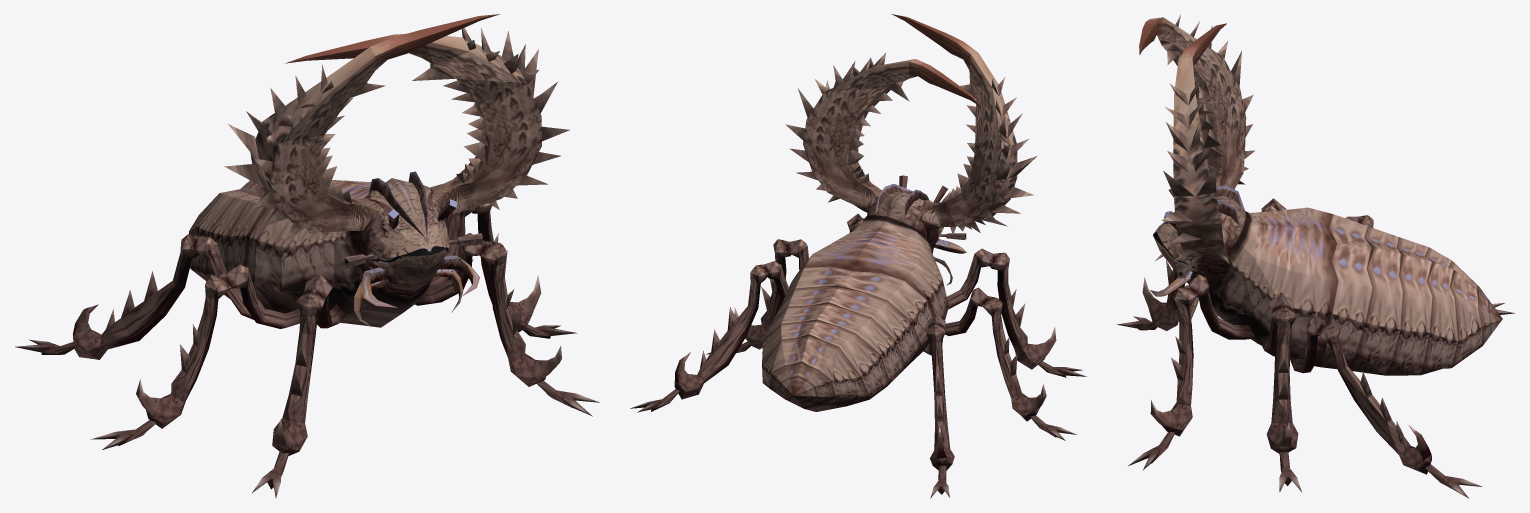
The model's file is Doodle Beetle.fbx.
3 views of the same model, side by side, from view 1: azimuth 30°, elevation 25°; view 2: azimuth 150°, elevation 25°; view 3: azimuth 270°, elevation 25° (orthographic). The views are drawn at different scales.
Parts seen in each view (by area): view 1: Body; view 2: Body; view 3: Body.
Boxes of the visible parts, x1,y1,x2,y2 form: Body: (15, 14, 599, 498); Body: (630, 14, 1086, 498); Body: (1117, 15, 1514, 498).
Bounding box in the file's own units: 1559 × 1319 × 1261.
1 material, 1 textured.
